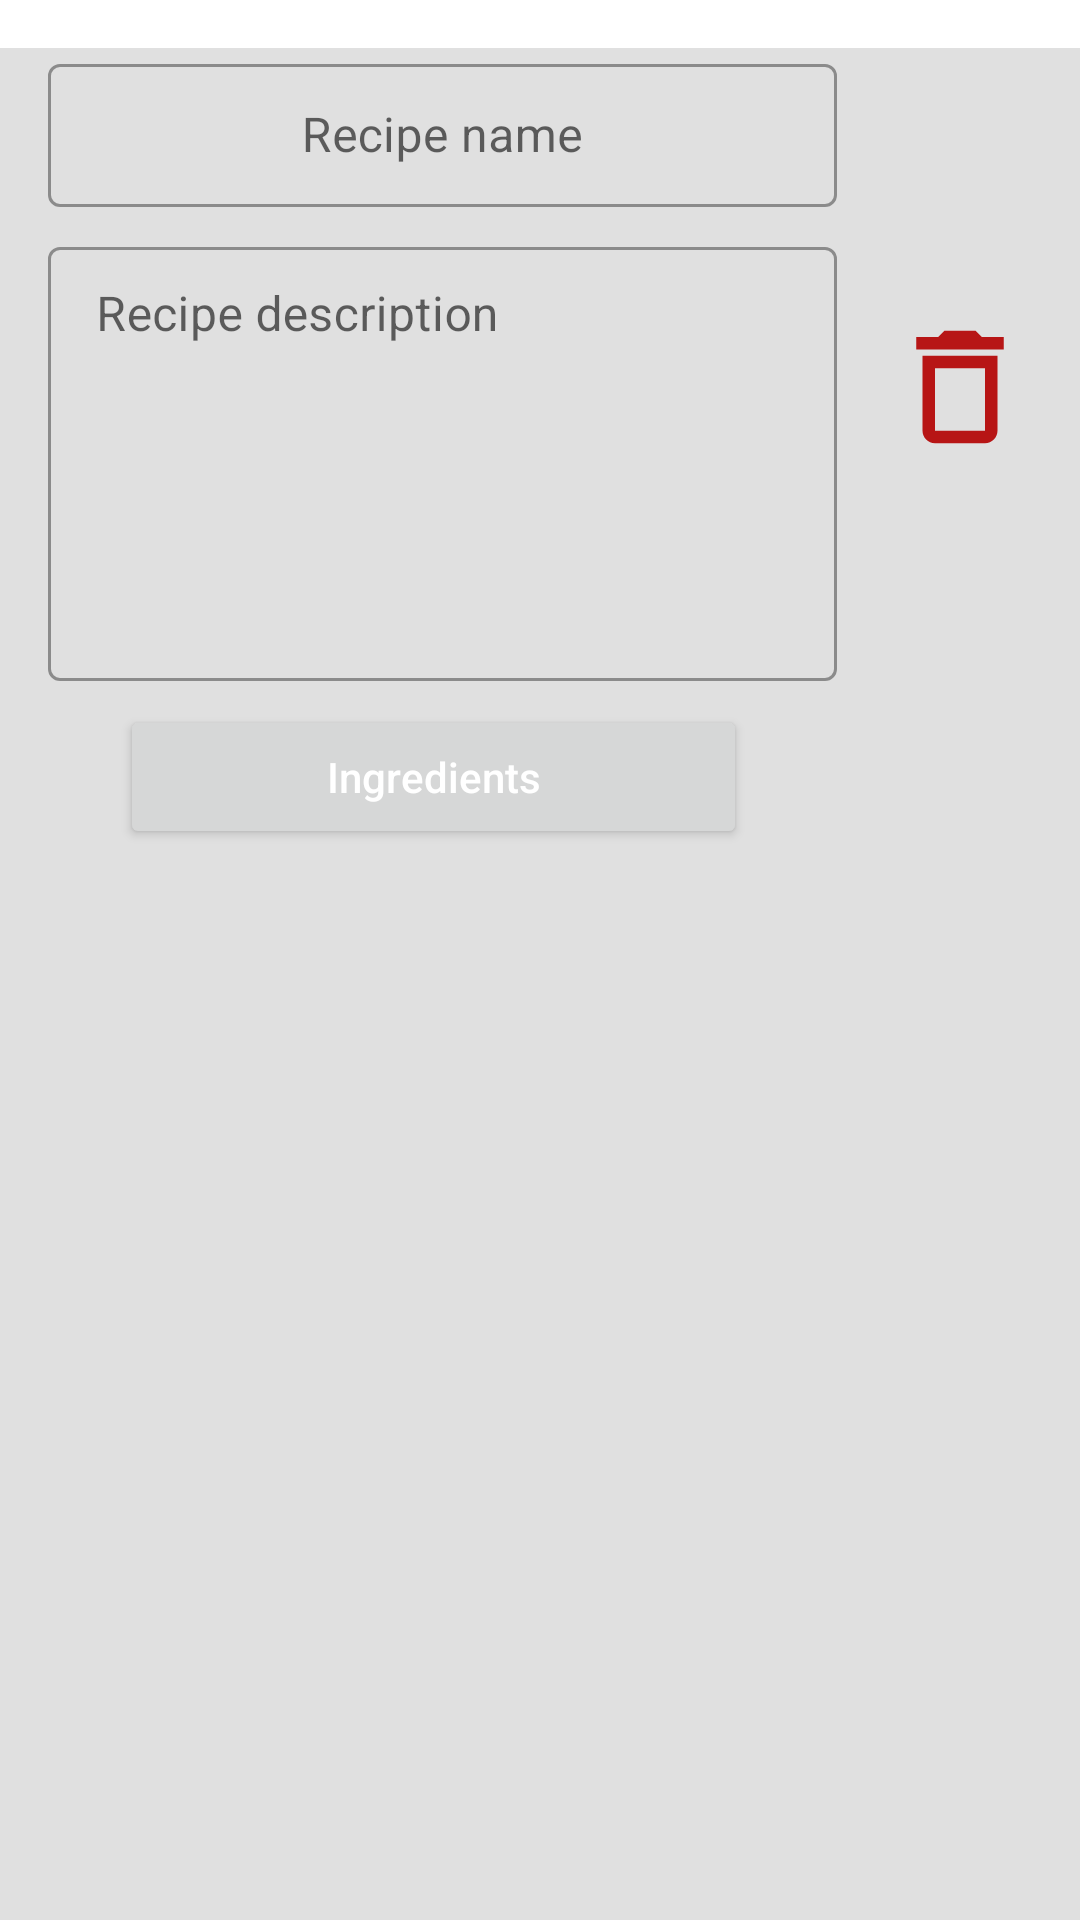

Named icons in this screenshot (1080px×1920px) and their centers, [x,y]:
delete: [960,387]
